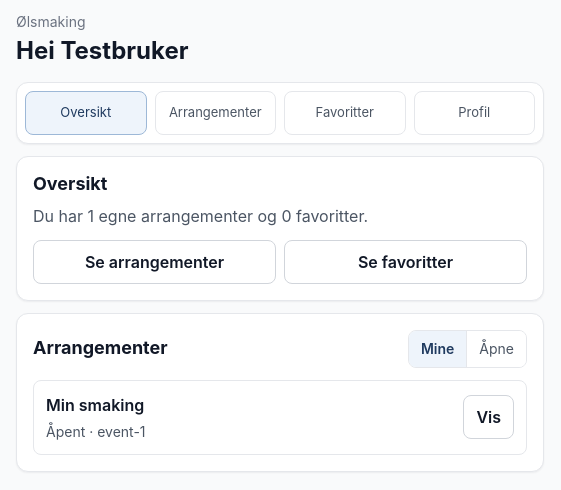
Test case: App core flows › refreshes favorites when opening favorites tab after initial hydrate
The image size is (561, 490).
Click the button "Favoritter": (345, 113) [284, 91, 406, 135]
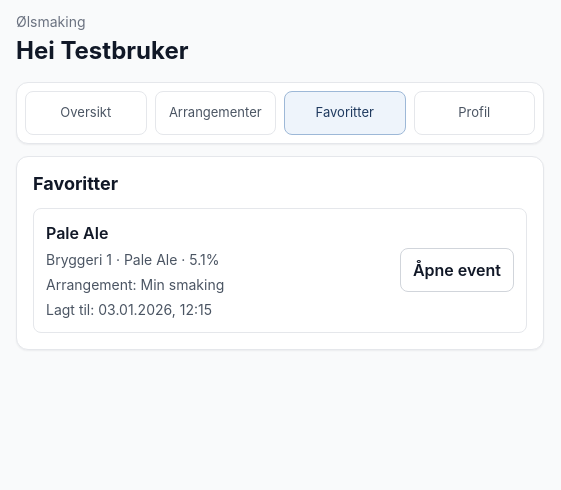
Expected: the text "Pale Ale" is shown, [46, 222, 108, 242]
